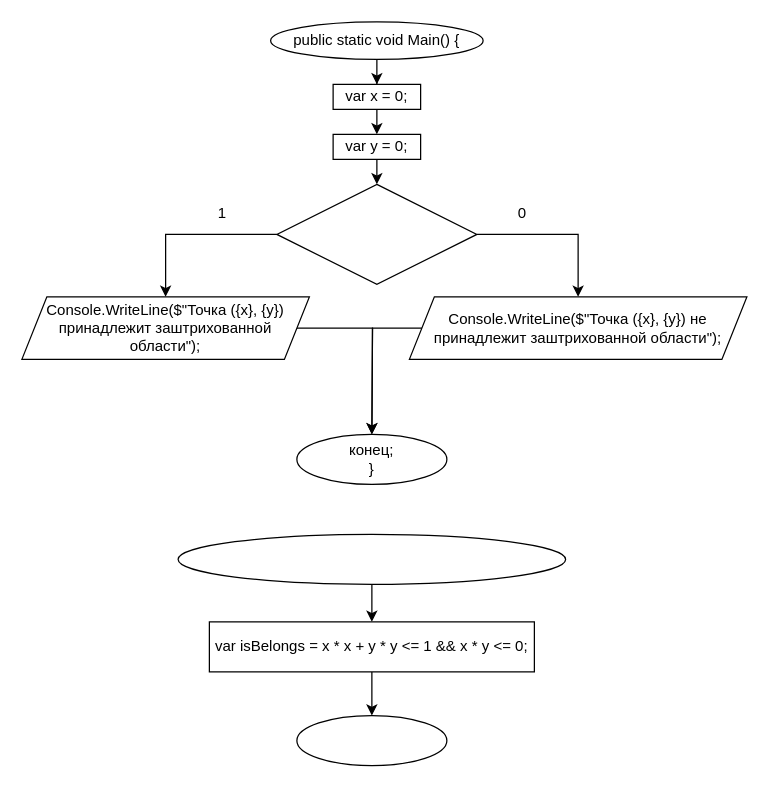
Image size: 769x788. Some labels were removed from this diagram. Each missing label, with the box of its shape:
if (BelongsToArea(x, y)): (276, 183, 477, 284)
public static bool BelongsToArea(float x, float y) {: (177, 533, 566, 584)
return isBelongs; }: (296, 714, 447, 766)
